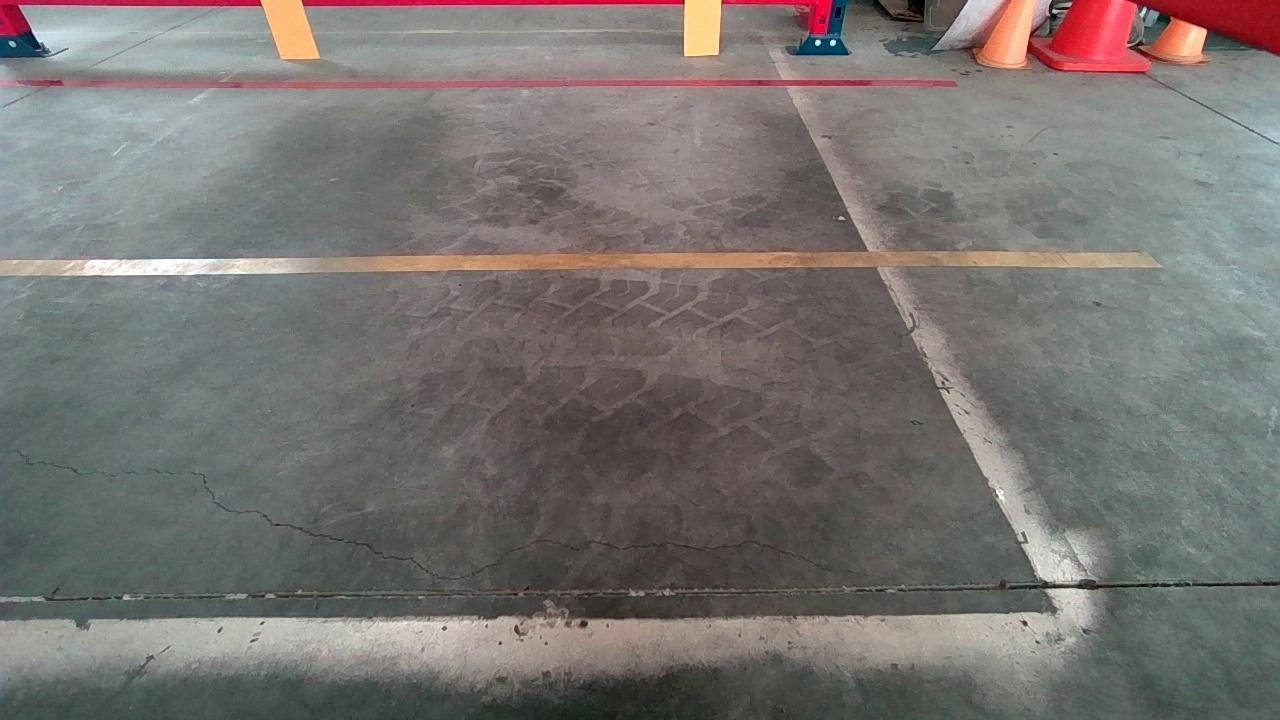orange_strip: (261, 0, 321, 58), (684, 0, 720, 54)
red_line: (0, 77, 959, 89)
yellow_line: (0, 251, 1166, 277)
